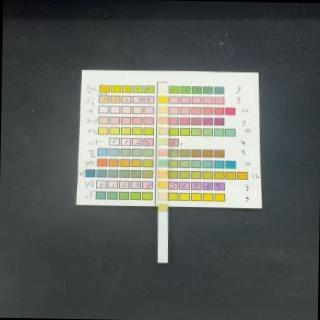mark: (157, 180, 168, 190), (158, 95, 168, 104), (158, 127, 168, 136), (158, 159, 168, 168), (158, 170, 168, 179), (158, 203, 168, 212), (157, 138, 168, 146), (157, 192, 168, 200), (158, 107, 168, 115), (158, 117, 168, 125), (158, 149, 168, 157), (158, 86, 168, 92)
